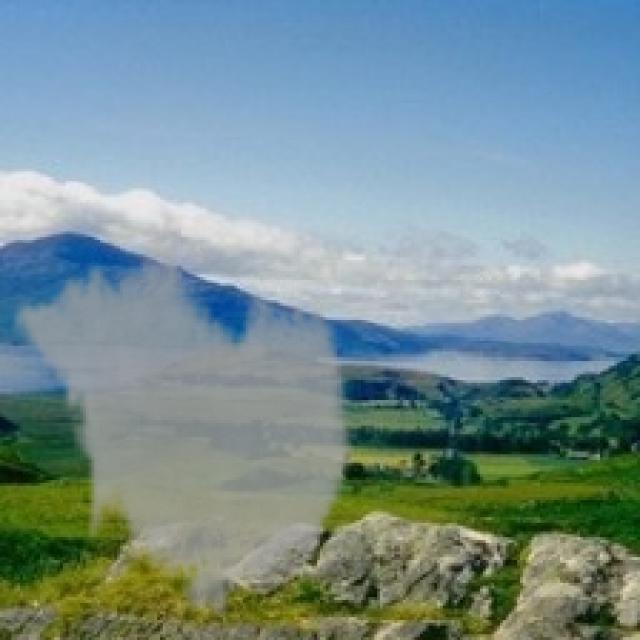smoke: (12, 237, 357, 626)
